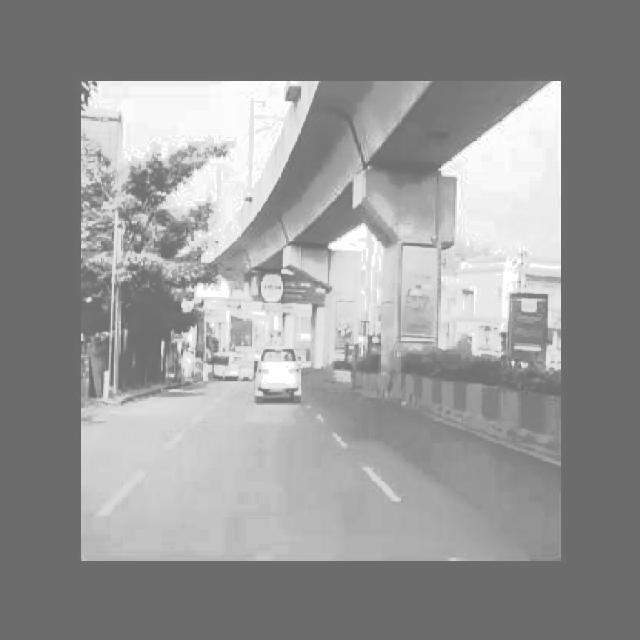Car: (257, 332, 308, 420)
